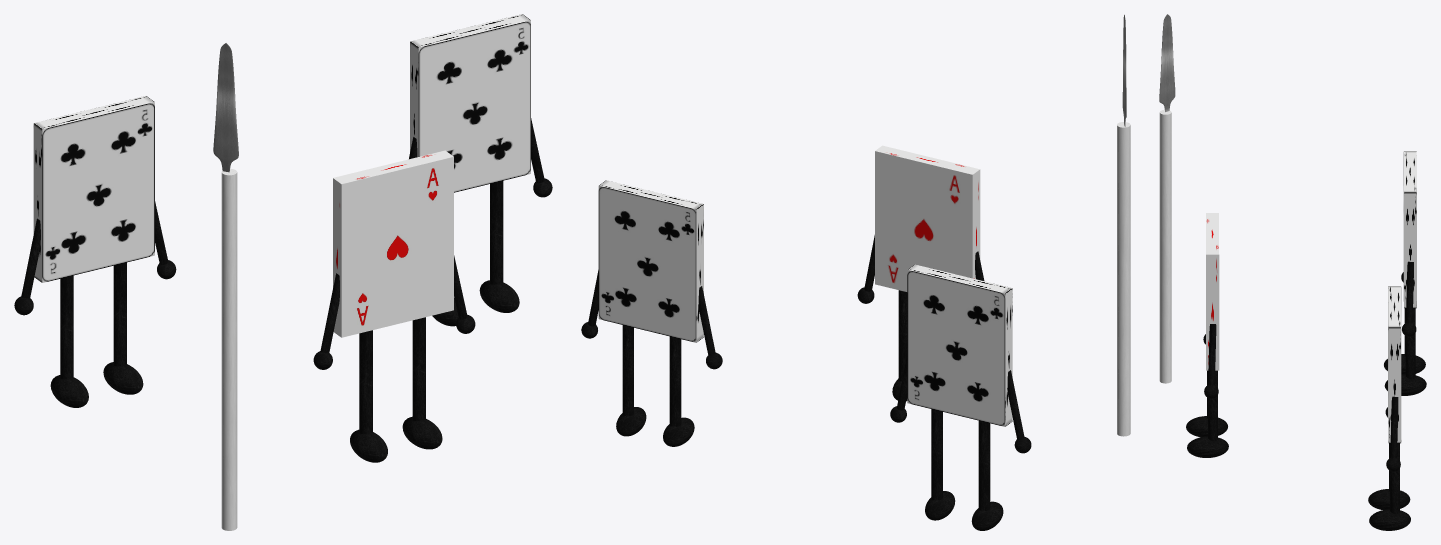
The model's file is Deck.obj.
3 views of the same model, side by side, from view 1: azimuth 30°, elevation 25°; view 2: azimuth 150°, elevation 25°; view 3: azimuth 270°, elevation 25° (orthographic). The views are drawn at different scales.
Visible parts, largest first — view 1: Box002, Box006, Box004, Cylinder004, Box005, Cylinder003, Cylinder005, Cylinder014, Cylinder017, Cylinder019, Sphere006, Sphere014 (+5 smaller); view 2: Box004, Box002, Box006, Cylinder004, Cylinder013, Cylinder003, Cylinder005, Cylinder014, Cylinder019, Sphere013, Sphere005; view 3: Cylinder004, Box004, Box002, Box006, Box005, Sphere014, Sphere017, Cylinder005, Sphere013, Sphere016, Cylinder014, Cylinder019 (+4 smaller).
Part boxes in pixels (left/top/right/bottom): Box002: left=33, top=96, right=154, bottom=282; Box006: left=333, top=150, right=453, bottom=337; Box004: left=410, top=14, right=530, bottom=192; Cylinder004: left=221, top=168, right=237, bottom=530; Box005: left=213, top=43, right=238, bottom=172; Cylinder003: left=60, top=275, right=73, bottom=379; Cylinder005: left=113, top=262, right=126, bottom=366; Cylinder014: left=490, top=181, right=503, bottom=284; Cylinder017: left=359, top=330, right=372, bottom=433; Cylinder019: left=412, top=317, right=425, bottom=420; Sphere006: left=103, top=362, right=143, bottom=394; Sphere014: left=479, top=280, right=519, bottom=312; Box004: left=598, top=180, right=703, bottom=342; Box002: left=907, top=264, right=1012, bottom=426; Box006: left=875, top=145, right=980, bottom=291; Cylinder004: left=1117, top=122, right=1130, bottom=436; Cylinder013: left=669, top=336, right=681, bottom=426; Cylinder003: left=978, top=420, right=990, bottom=510; Cylinder005: left=931, top=409, right=942, bottom=500; Cylinder014: left=622, top=325, right=633, bottom=416; Cylinder019: left=898, top=290, right=907, bottom=381; Sphere013: left=663, top=417, right=694, bottom=446; Sphere005: left=971, top=501, right=1003, bottom=530; Cylinder004: left=1159, top=109, right=1171, bottom=383; Box004: left=1388, top=286, right=1401, bottom=443; Box002: left=1403, top=151, right=1416, bottom=308; Box006: left=1206, top=213, right=1219, bottom=370; Box005: left=1159, top=14, right=1175, bottom=111; Sphere014: left=1369, top=509, right=1410, bottom=530; Sphere017: left=1187, top=436, right=1228, bottom=457; Cylinder005: left=1405, top=308, right=1415, bottom=379; Sphere013: left=1368, top=489, right=1410, bottom=509; Sphere016: left=1186, top=416, right=1227, bottom=437; Cylinder014: left=1390, top=443, right=1399, bottom=514; Cylinder019: left=1208, top=370, right=1217, bottom=441.
Size of the model in its own units: 11.46 by 10.1 by 6.69.
